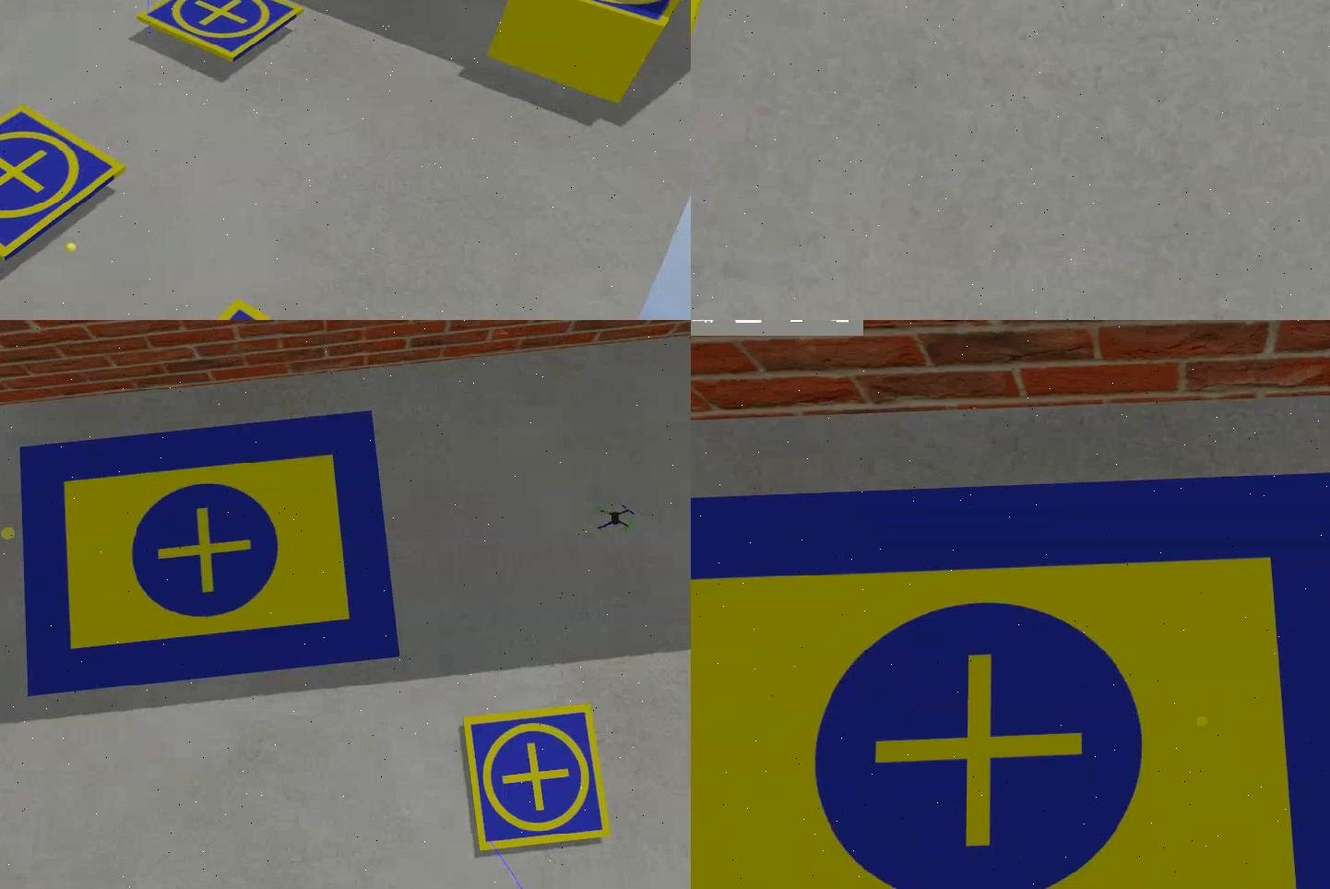large_base: (692, 473, 1330, 889), (13, 411, 406, 701)
small_base: (463, 705, 610, 857), (1, 106, 128, 262), (137, 1, 306, 66), (513, 1, 692, 33)
